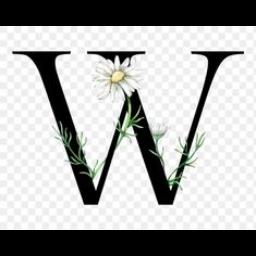w: (10, 46, 248, 212)
